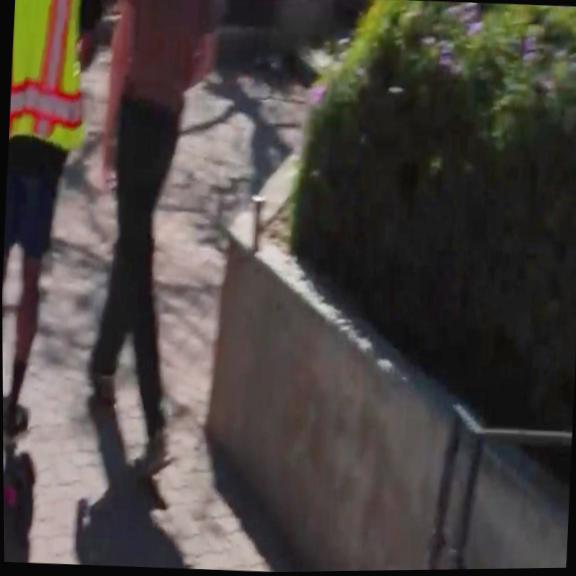safety_vest: (8, 0, 95, 151)
